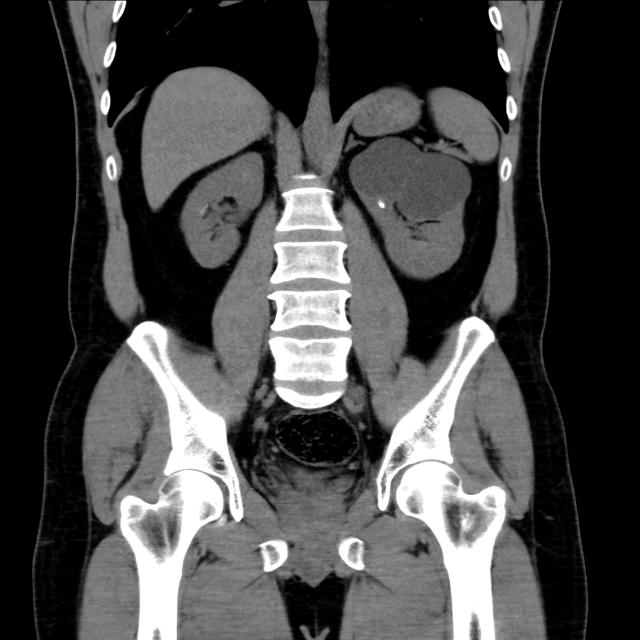kidneystone: (377, 200, 385, 209)
